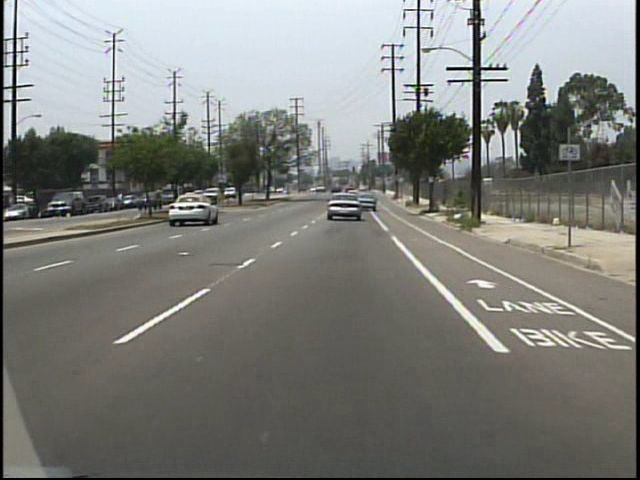person: (115, 190, 125, 210)
